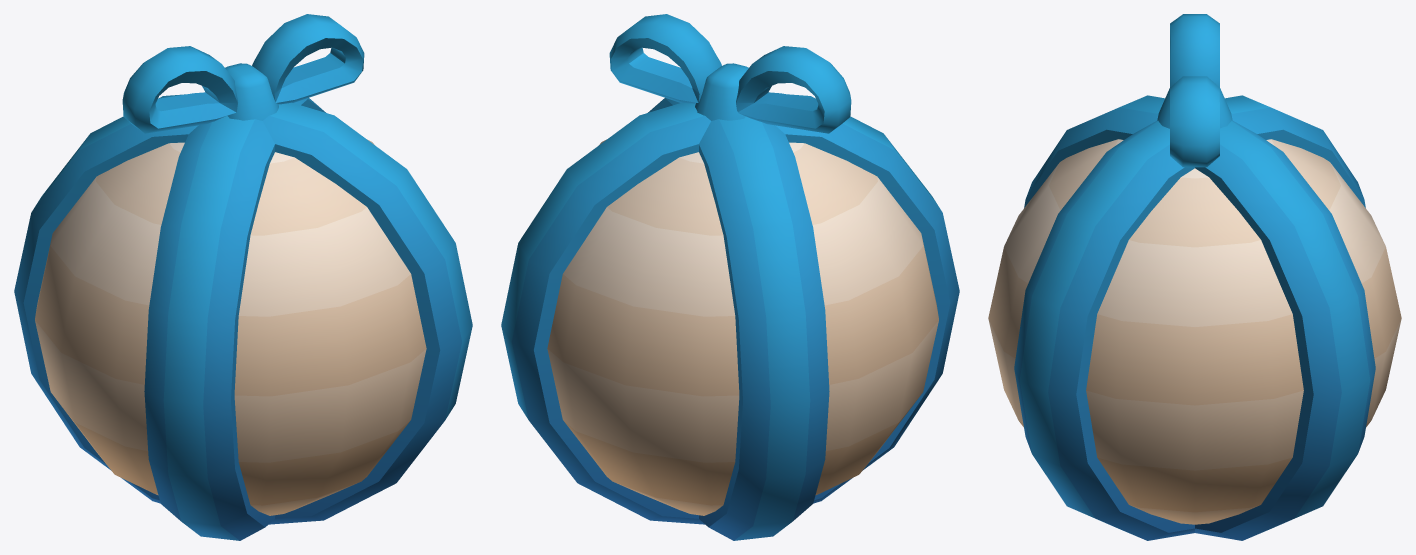
The model's file is present_sphere_B_white.glb.
3 renders of one model, left to right at view 1: azimuth 30°, elevation 25°; view 2: azimuth 150°, elevation 25°; view 3: azimuth 270°, elevation 25°, orthographic.
Visible parts, largest first — view 1: present_sphere_B_white; view 2: present_sphere_B_white; view 3: present_sphere_B_white.
Boxes of the visible parts, x1,y1,x2,y2 form: present_sphere_B_white: (14, 14, 472, 540); present_sphere_B_white: (501, 14, 959, 540); present_sphere_B_white: (988, 14, 1401, 540).
Size of the model in its own units: 0.7933 by 1 by 0.7933.
Materials: 1 (1 with a texture image).
